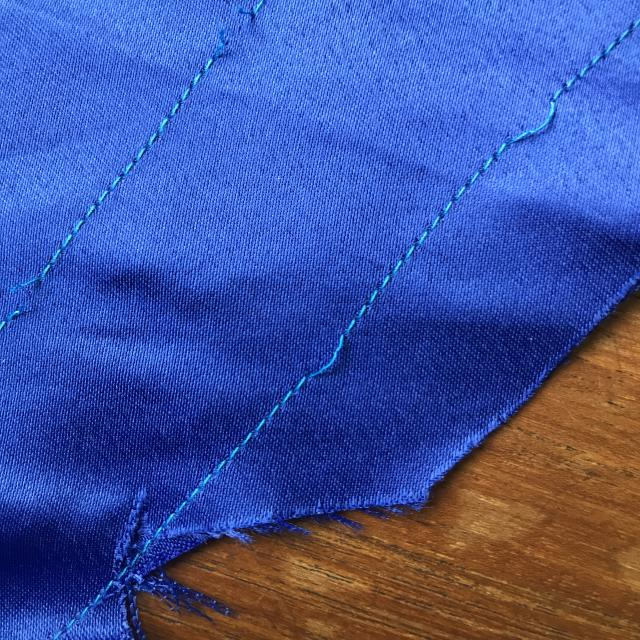broken: (180, 4, 288, 80), (0, 250, 66, 330)
skip: (476, 52, 578, 172), (280, 310, 366, 391)
